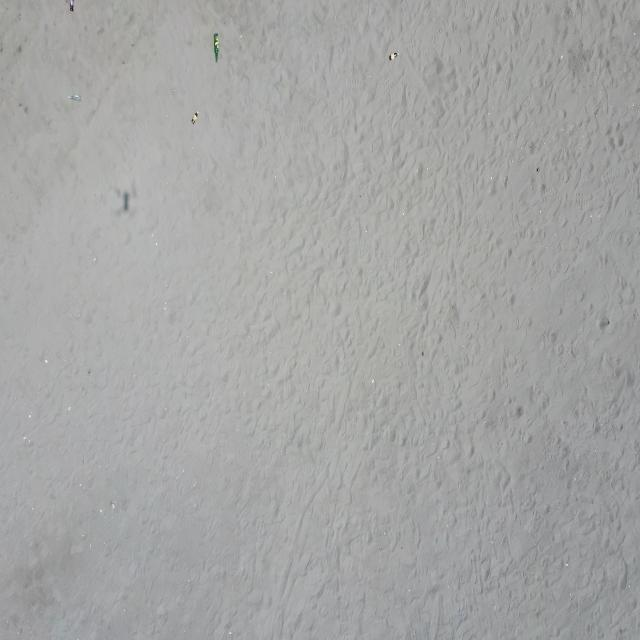glass: (213, 32, 219, 64), (68, 93, 82, 101), (191, 111, 199, 124), (389, 52, 399, 62), (69, 0, 74, 13)
